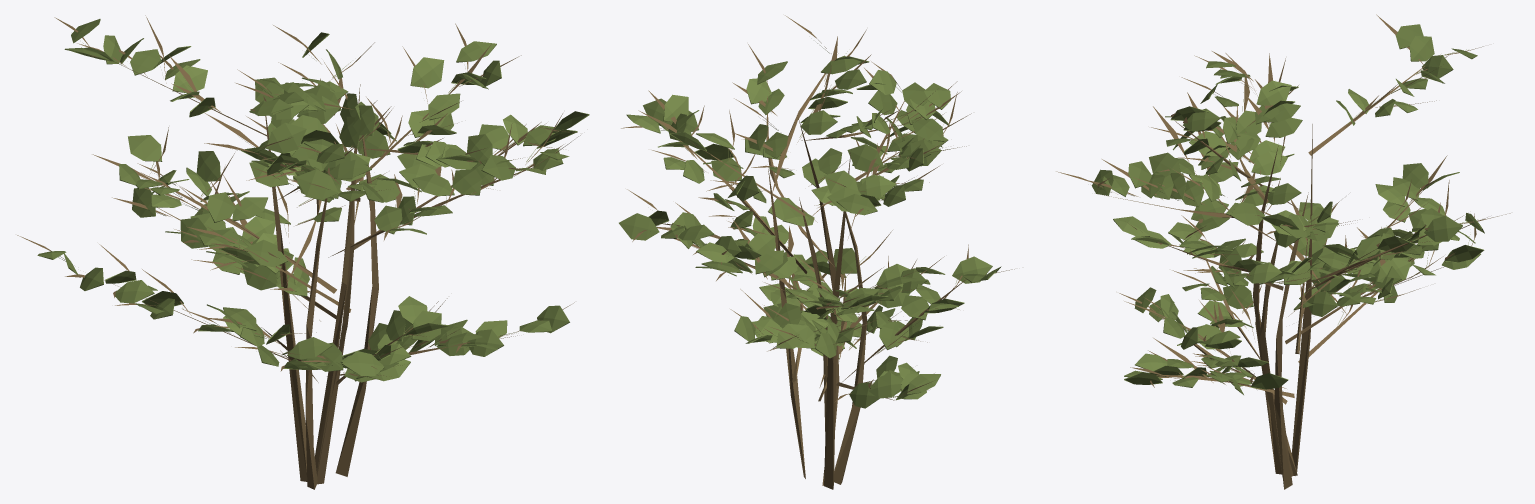
The model's file is Lentisque_1_LOD2.fbx.
3 renders of one model, left to right at view 1: azimuth 30°, elevation 25°; view 2: azimuth 150°, elevation 25°; view 3: azimuth 270°, elevation 25°, orthographic. The views are drawn at different scales.
Parts seen in each view (by area): view 1: Lentisque_1_LOD2; view 2: Lentisque_1_LOD2; view 3: Lentisque_1_LOD2.
Boxes of the visible parts, x1,y1,x2,y2 form: Lentisque_1_LOD2: (17,15,589,489); Lentisque_1_LOD2: (619,15,1014,489); Lentisque_1_LOD2: (1056,14,1510,489).
Size of the model in its own units: 203 by 188 by 205.
